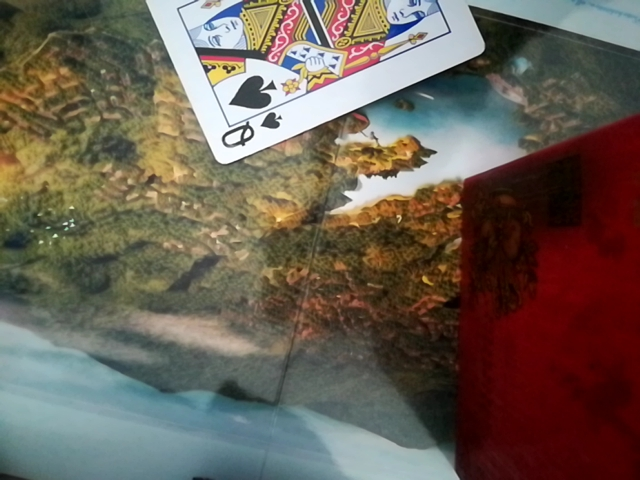ht q: (126, 1, 498, 162)
